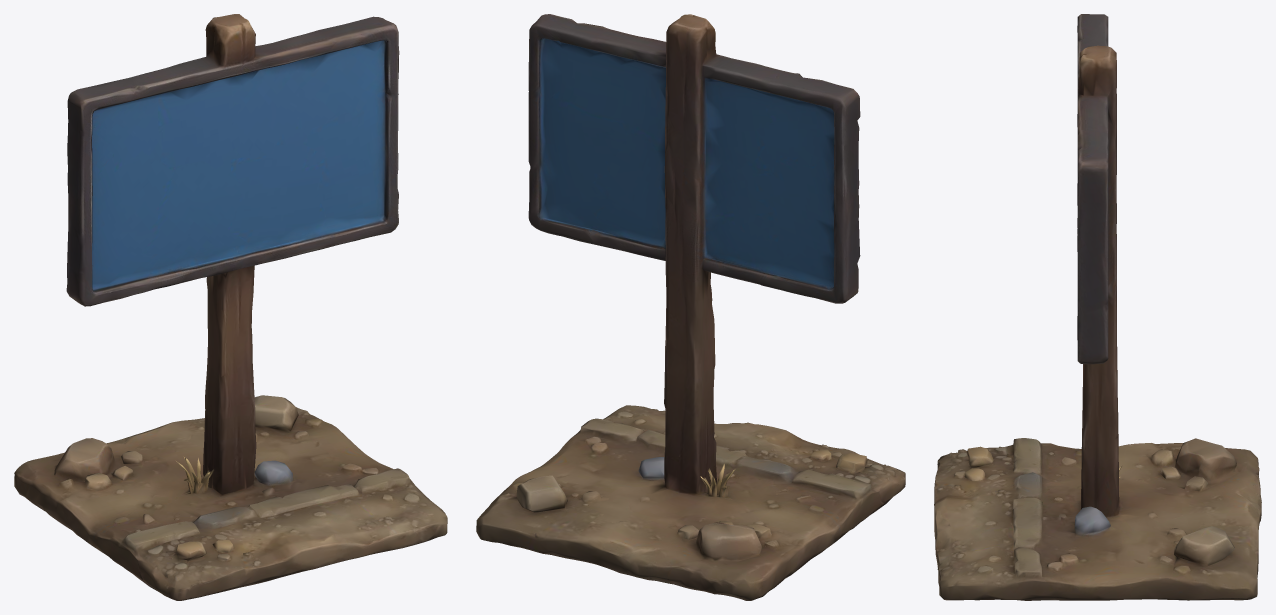
The model's file is road_sign_a.glb.
3 views of the same model, side by side, from view 1: azimuth 30°, elevation 25°; view 2: azimuth 150°, elevation 25°; view 3: azimuth 270°, elevation 25° (orthographic).
Visible parts, largest first — view 1: tripo_node_1fe0727c-5638-43da-8a3a-dc34faa0da96; view 2: tripo_node_1fe0727c-5638-43da-8a3a-dc34faa0da96; view 3: tripo_node_1fe0727c-5638-43da-8a3a-dc34faa0da96.
Part boxes in pixels (left/top/right/bottom): tripo_node_1fe0727c-5638-43da-8a3a-dc34faa0da96: left=14, top=14, right=447, bottom=600; tripo_node_1fe0727c-5638-43da-8a3a-dc34faa0da96: left=476, top=14, right=905, bottom=600; tripo_node_1fe0727c-5638-43da-8a3a-dc34faa0da96: left=934, top=14, right=1261, bottom=600.
Size of the model in its own units: 0.6773 by 1 by 0.6151.
1 material, 1 textured.
